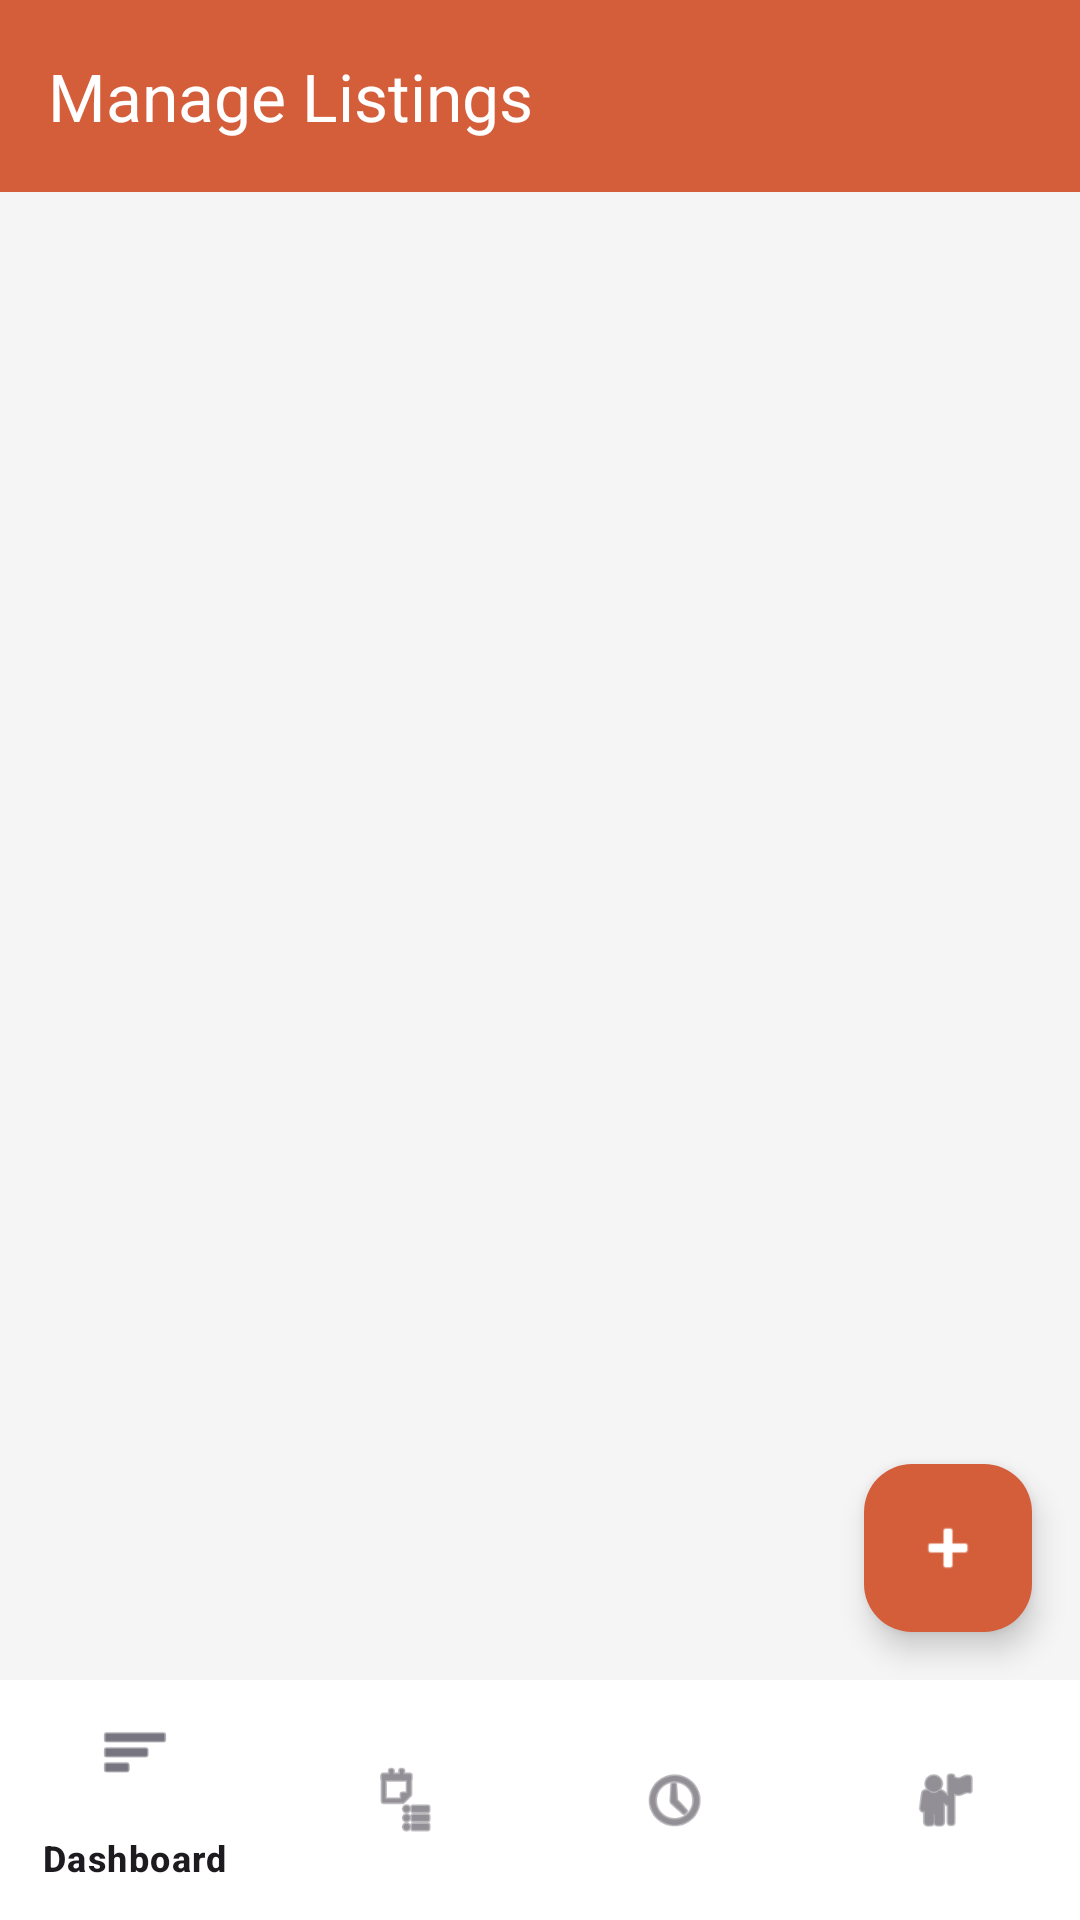

Locate icon controls on the screen. Image size 1080w x 1920h, boxes as detection(x1, y1, x2, y2).
add: detection(864, 1464, 1032, 1632)
